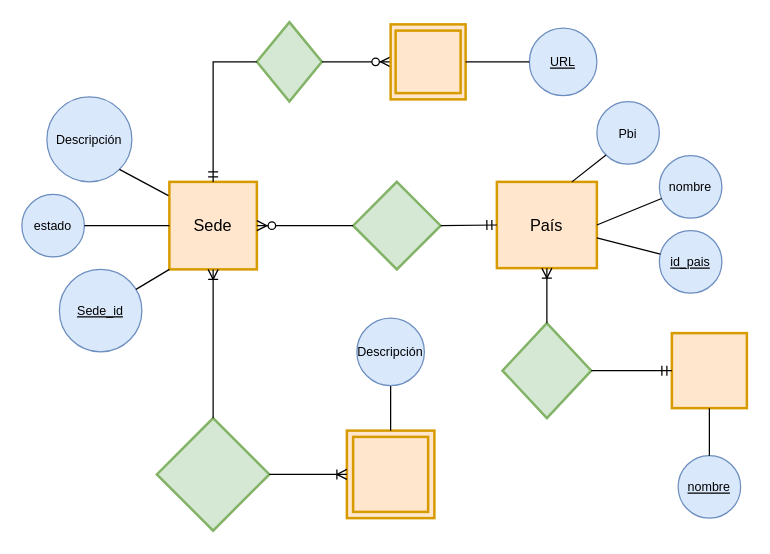
Image size: 770x554. Some labels were removed from this diagram. Each missing label, with the box of its shape:
esta_en: (351, 180, 441, 270)
pertenece: (501, 321, 592, 419)
posee: (255, 20, 322, 102)
Redes: (394, 29, 461, 94)
Región: (670, 331, 748, 409)
se_divide_en: (155, 416, 270, 531)
Seccion: (351, 435, 429, 512)
